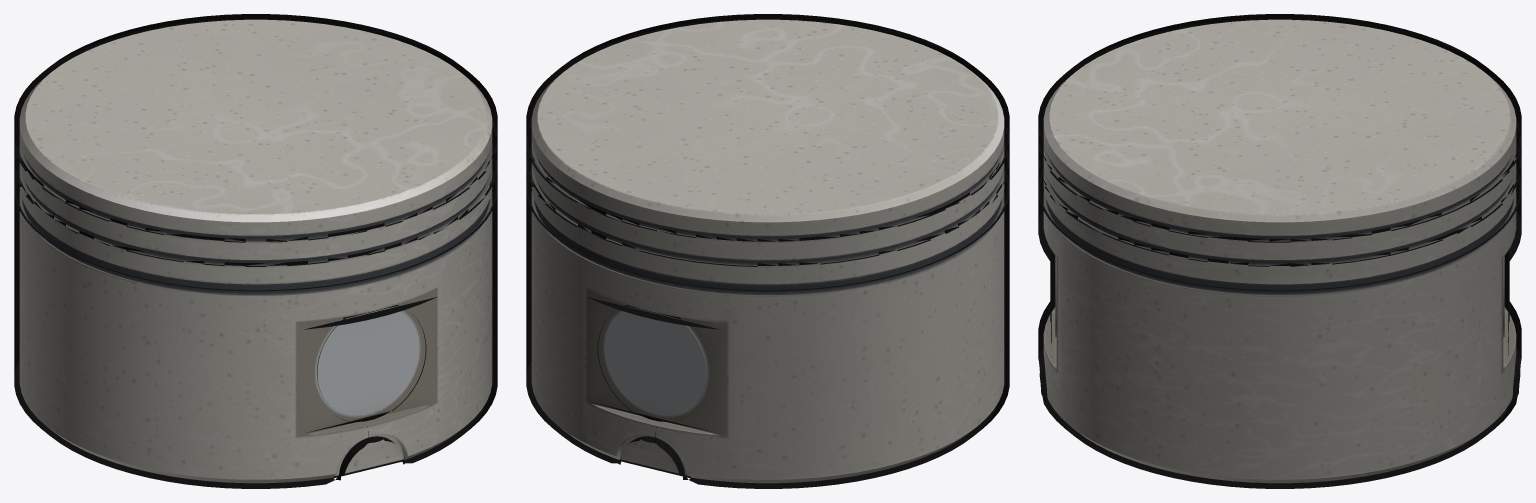
Rendered from Piston.fbx.
The picture shows the model from 3 angles, left to right: view 1: azimuth 30°, elevation 25°; view 2: azimuth 150°, elevation 25°; view 3: azimuth 270°, elevation 25°; orthographic projection.
Visible parts, largest first — view 1: Piston; view 2: Piston; view 3: Piston.
Boxes of the visible parts, x1,y1,x2,y2 form: Piston: (14,14,497,488); Piston: (526,14,1009,488); Piston: (1038,14,1521,488).
Size of the model in its own units: 0.0813 by 0.0518 by 0.0814.
1 material, 1 textured.
